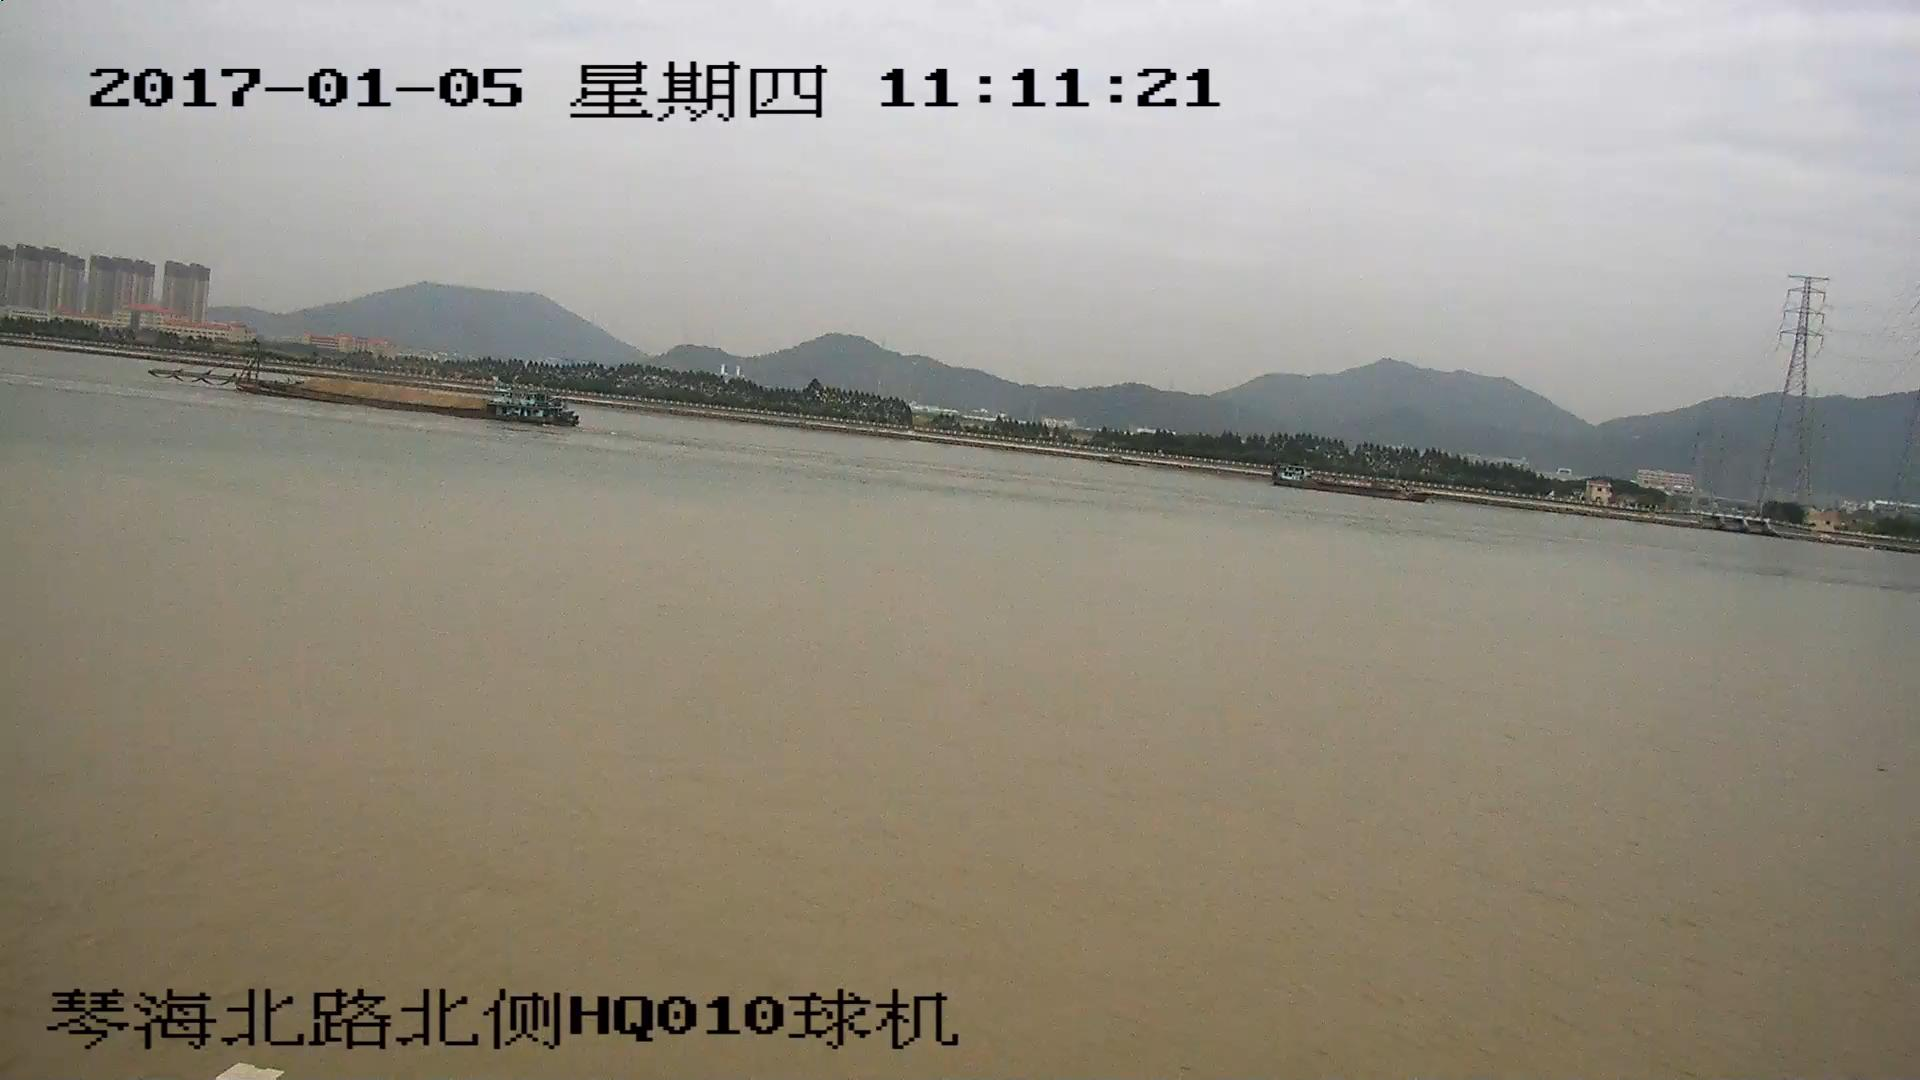ore carrier: (153, 348, 572, 431)
